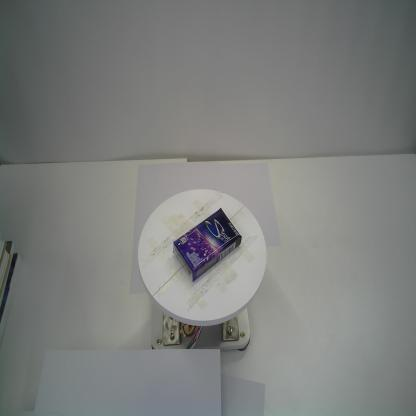Gum: (172, 207, 242, 284)
